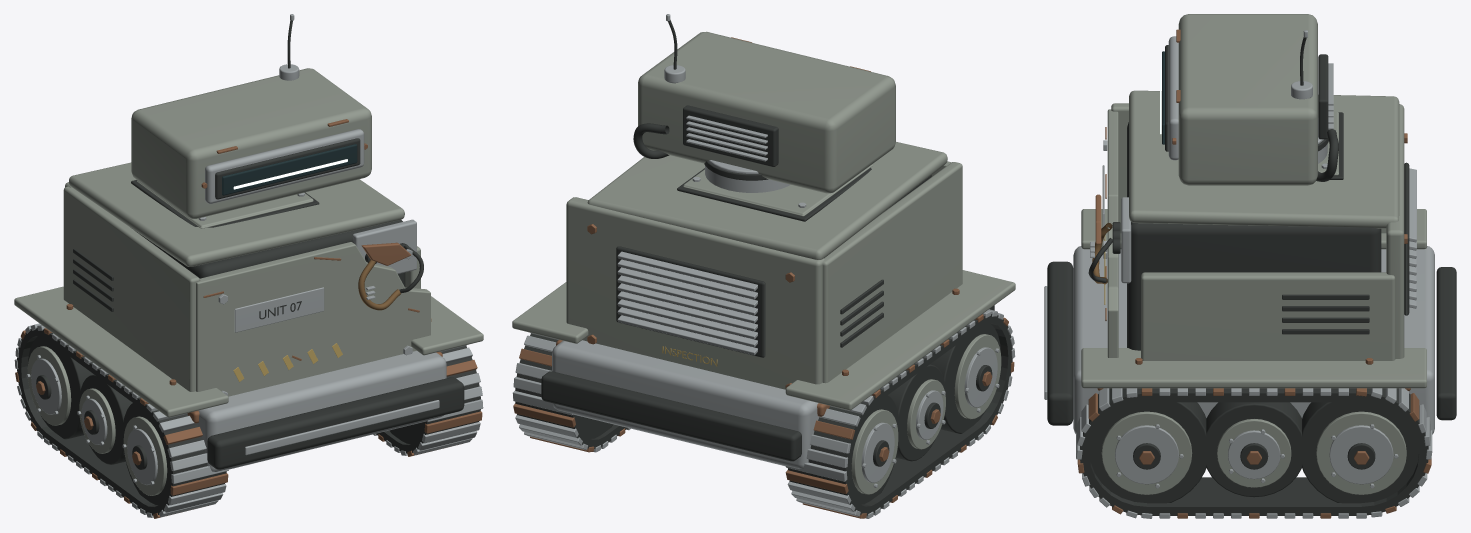
File: RustGuard.fbx
3 renders of one model, left to right at view 1: azimuth 30°, elevation 25°; view 2: azimuth 150°, elevation 25°; view 3: azimuth 270°, elevation 25°, orthographic. The views are drawn at different scales.
Visible parts, largest first — view 1: RustGuard_Paint, RustGuard_Steel, RustGuard_Rubber, RustGuard_Rust, RustGuard_Glass, RustGuard_Wire; view 2: RustGuard_Paint, RustGuard_Steel, RustGuard_Rubber, RustGuard_Rust; view 3: RustGuard_Paint, RustGuard_Rubber, RustGuard_Steel, RustGuard_Rust.
Boxes of the visible parts, x1,y1,x2,y2 form: RustGuard_Paint: (14, 68, 483, 495); RustGuard_Steel: (14, 14, 483, 517); RustGuard_Rubber: (17, 20, 480, 515); RustGuard_Rust: (15, 119, 482, 518); RustGuard_Glass: (222, 144, 357, 195); RustGuard_Wire: (358, 259, 400, 310); RustGuard_Paint: (512, 31, 1015, 494); RustGuard_Steel: (512, 14, 1015, 518); RustGuard_Rubber: (515, 20, 1012, 515); RustGuard_Rust: (513, 37, 1014, 518); RustGuard_Paint: (1081, 14, 1426, 494); RustGuard_Rubber: (1047, 37, 1456, 515); RustGuard_Steel: (1044, 30, 1434, 518); RustGuard_Rust: (1077, 29, 1431, 518).
Bounding box in the file's own units: 105 × 122 × 104.
